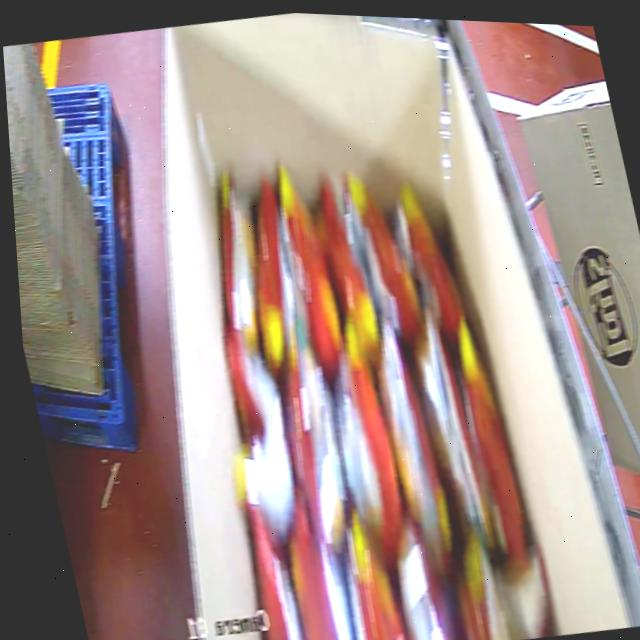MASALA: (151, 123, 561, 640)
